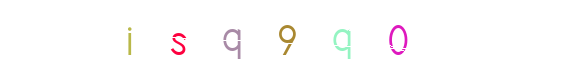0: (352, 0, 432, 80)
9: (245, 0, 325, 80)
I: (138, 0, 218, 80)
Q: (208, 0, 288, 80), (303, 0, 383, 80)
S: (199, 0, 279, 80)
